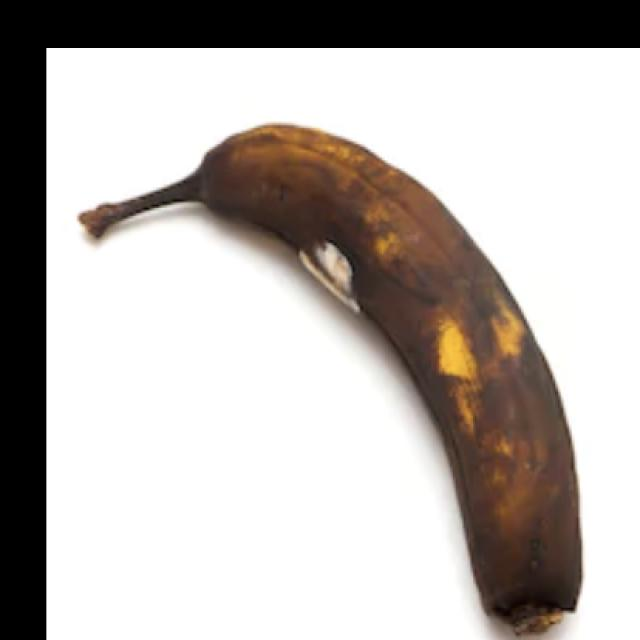Rotten: (55, 83, 600, 640)
